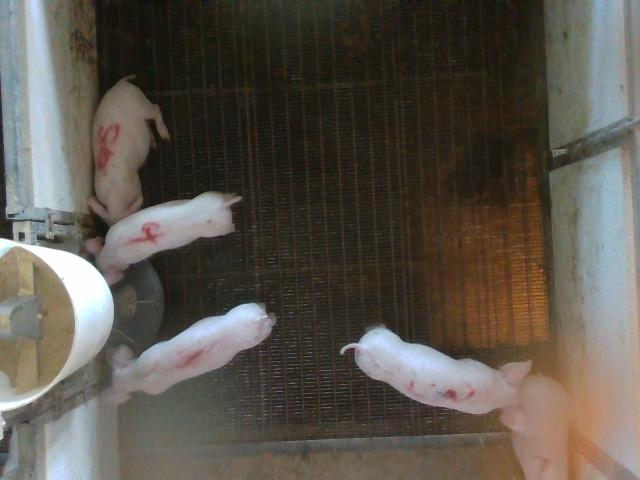pig-1: (110, 304, 275, 404)
pig-3: (341, 326, 531, 433)
pig-4: (88, 191, 241, 284)
pig-5: (89, 75, 170, 226)
